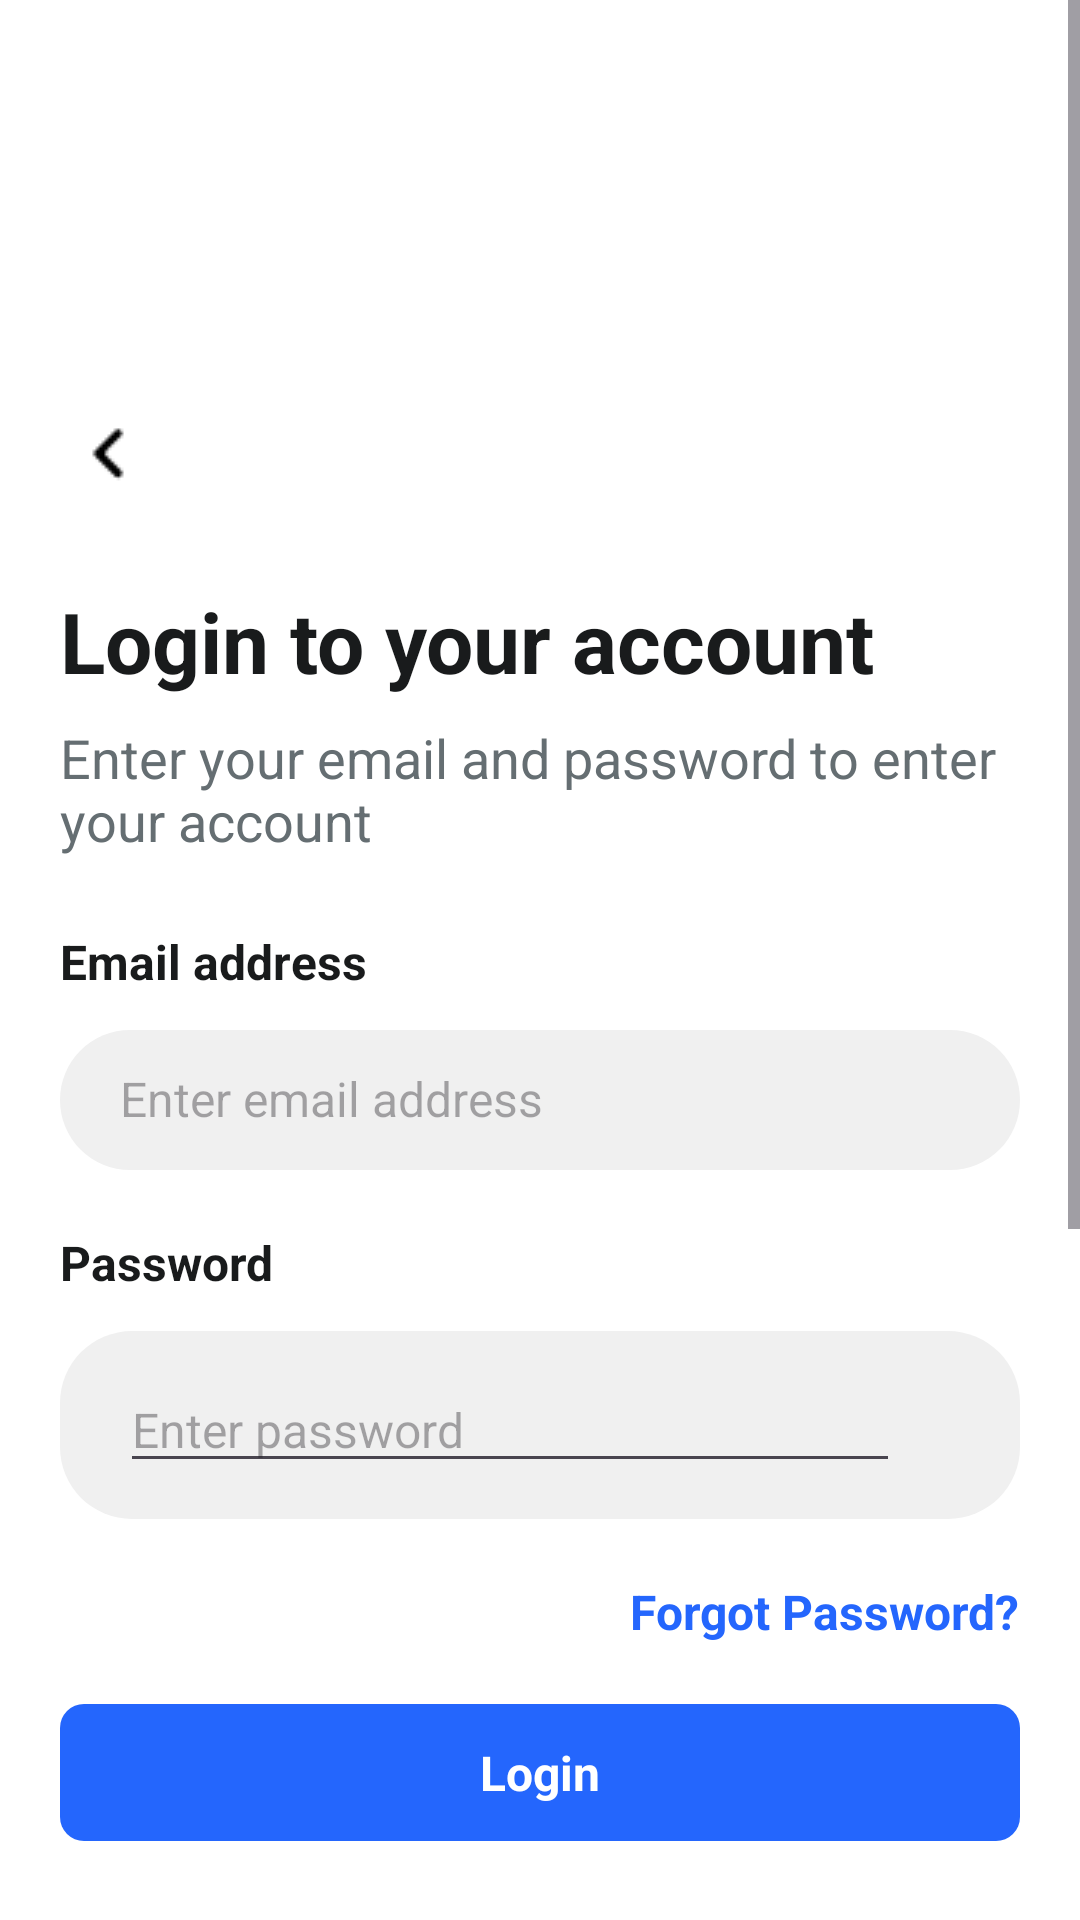

Where to tap for icons on this 1080 × 1920 app screen, as point (x, y):
back: point (108, 453)
